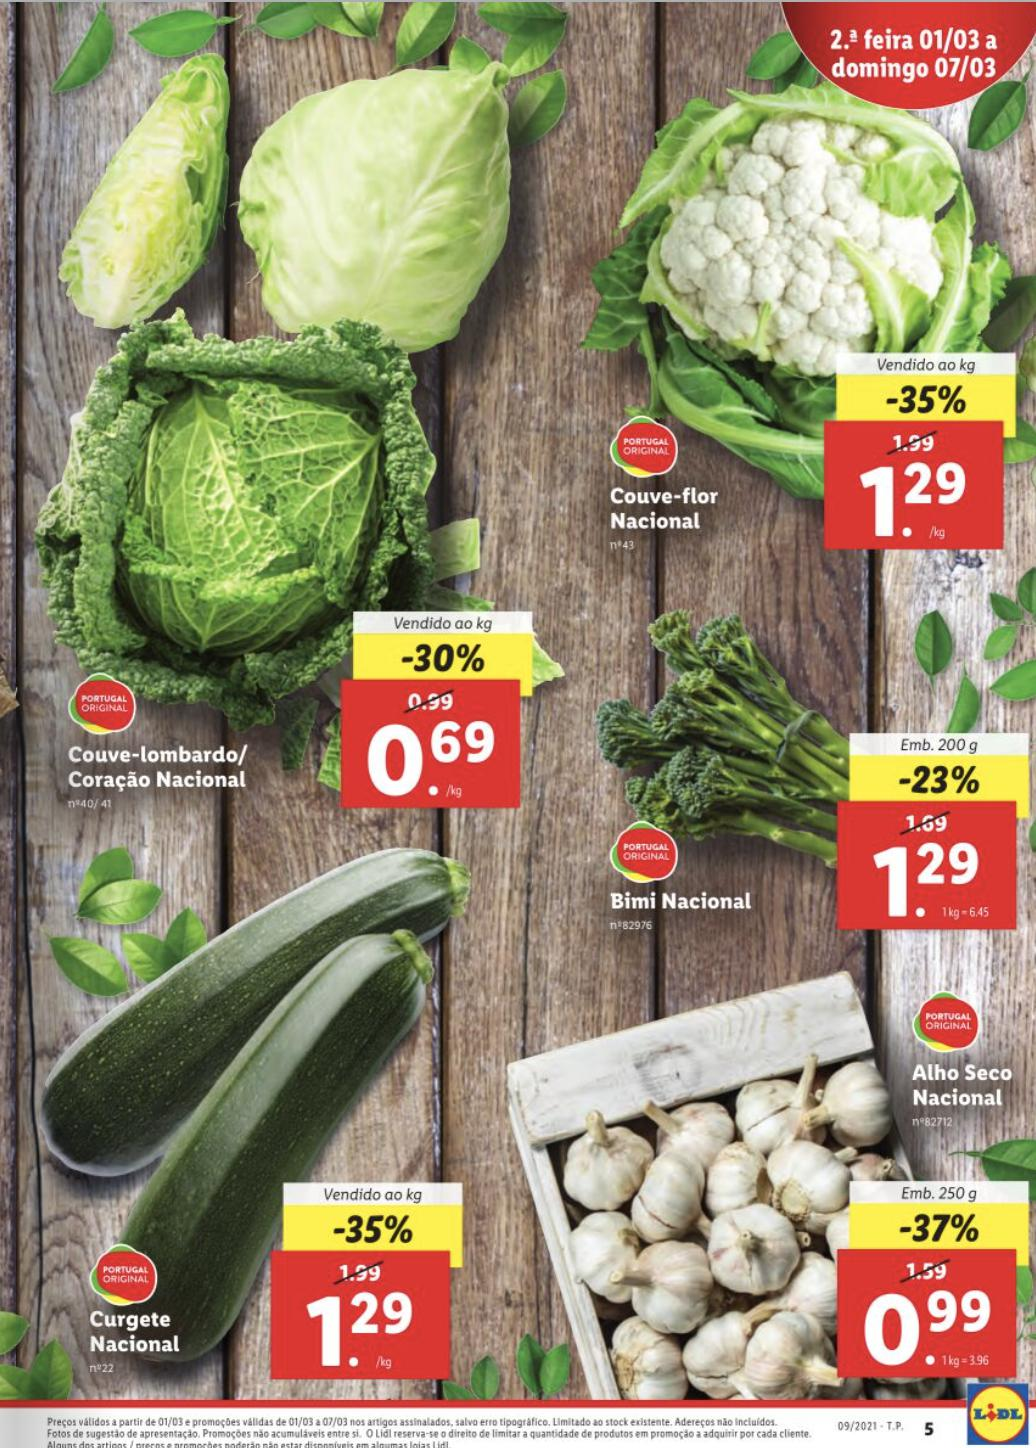name: (68, 742, 262, 796), (901, 1051, 1023, 1112), (70, 1303, 191, 1358), (609, 485, 732, 537), (604, 882, 762, 919)
price: (839, 1278, 1016, 1380), (292, 1285, 431, 1380), (864, 835, 998, 932), (364, 716, 498, 808), (854, 453, 979, 548)
product: (37, 303, 555, 826), (25, 841, 480, 1385), (494, 969, 1034, 1380), (588, 91, 1036, 570), (573, 610, 1030, 944)
promotion: (321, 1201, 420, 1250), (879, 380, 973, 425), (891, 1205, 982, 1251), (396, 633, 489, 678), (891, 758, 984, 801)
